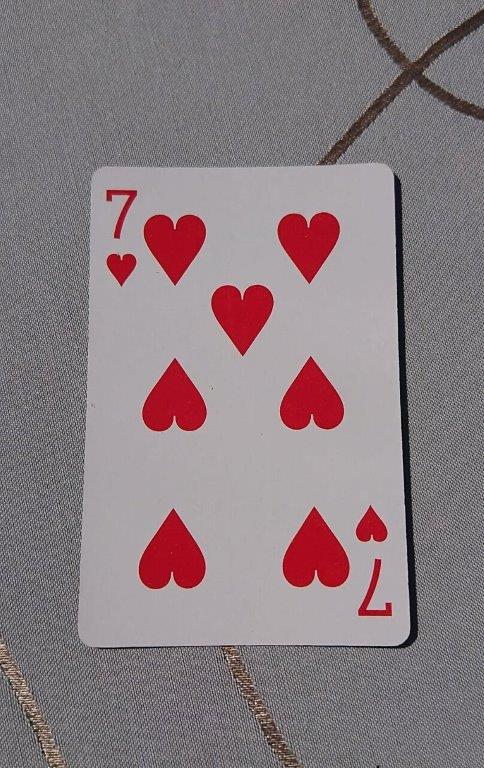7H: (75, 161, 413, 649)
